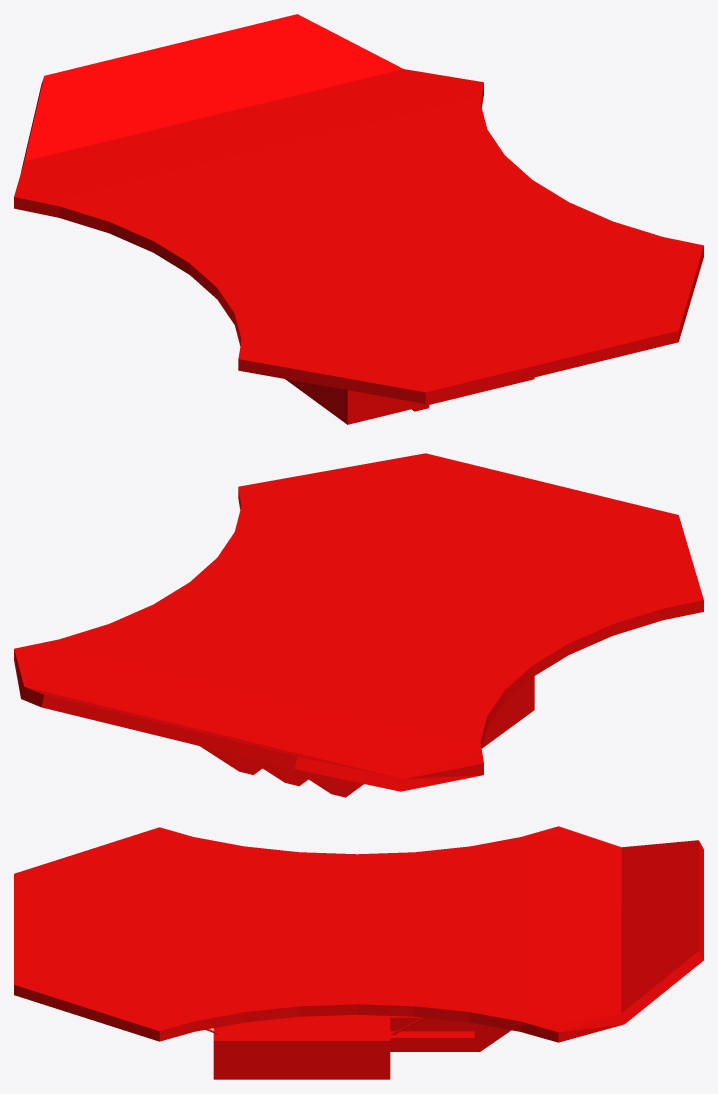
3 renders of one model, top to bottom at view 1: azimuth 30°, elevation 25°; view 2: azimuth 150°, elevation 25°; view 3: azimuth 270°, elevation 25°, orthographic. The views are drawn at different scales.
Parts seen in each view (by area): view 1: tmp_export_Cube.001; view 2: tmp_export_Cube.001; view 3: tmp_export_Cube.001.
Boxes of the visible parts, <box> form: tmp_export_Cube.001: <box>14,14,703,424</box>; tmp_export_Cube.001: <box>14,453,703,797</box>; tmp_export_Cube.001: <box>14,826,703,1079</box>.
Bounding box in the file's own units: 2.65 × 3.75 × 0.9805.
